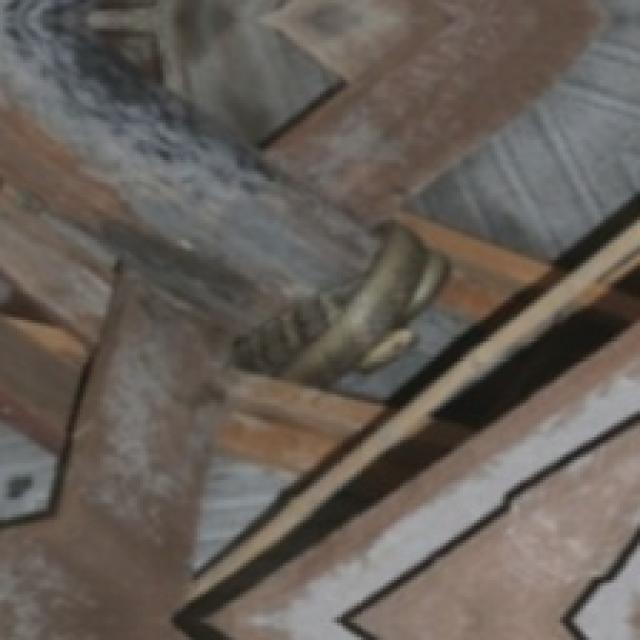king cobra: (0, 0, 374, 369), (280, 223, 446, 383)
